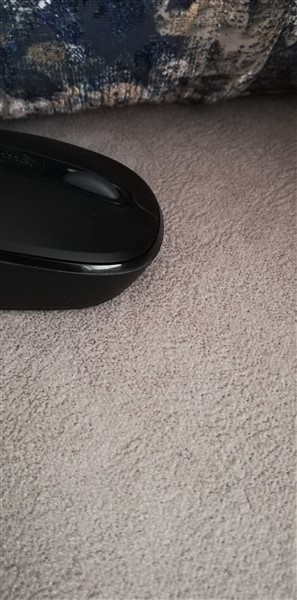mouse: (1, 118, 180, 316)
